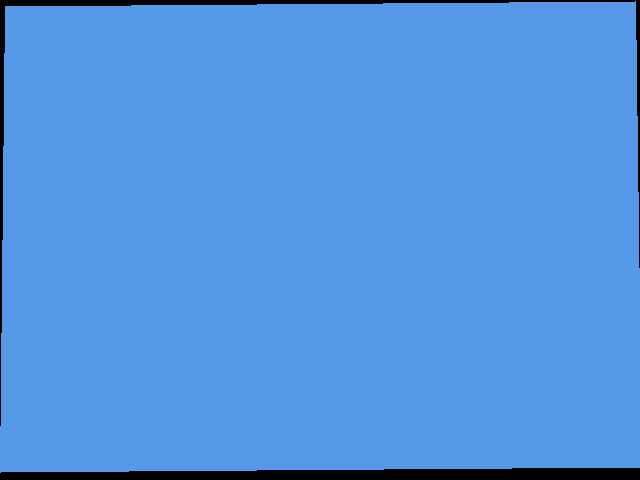Airplane: (0, 1, 640, 472)
